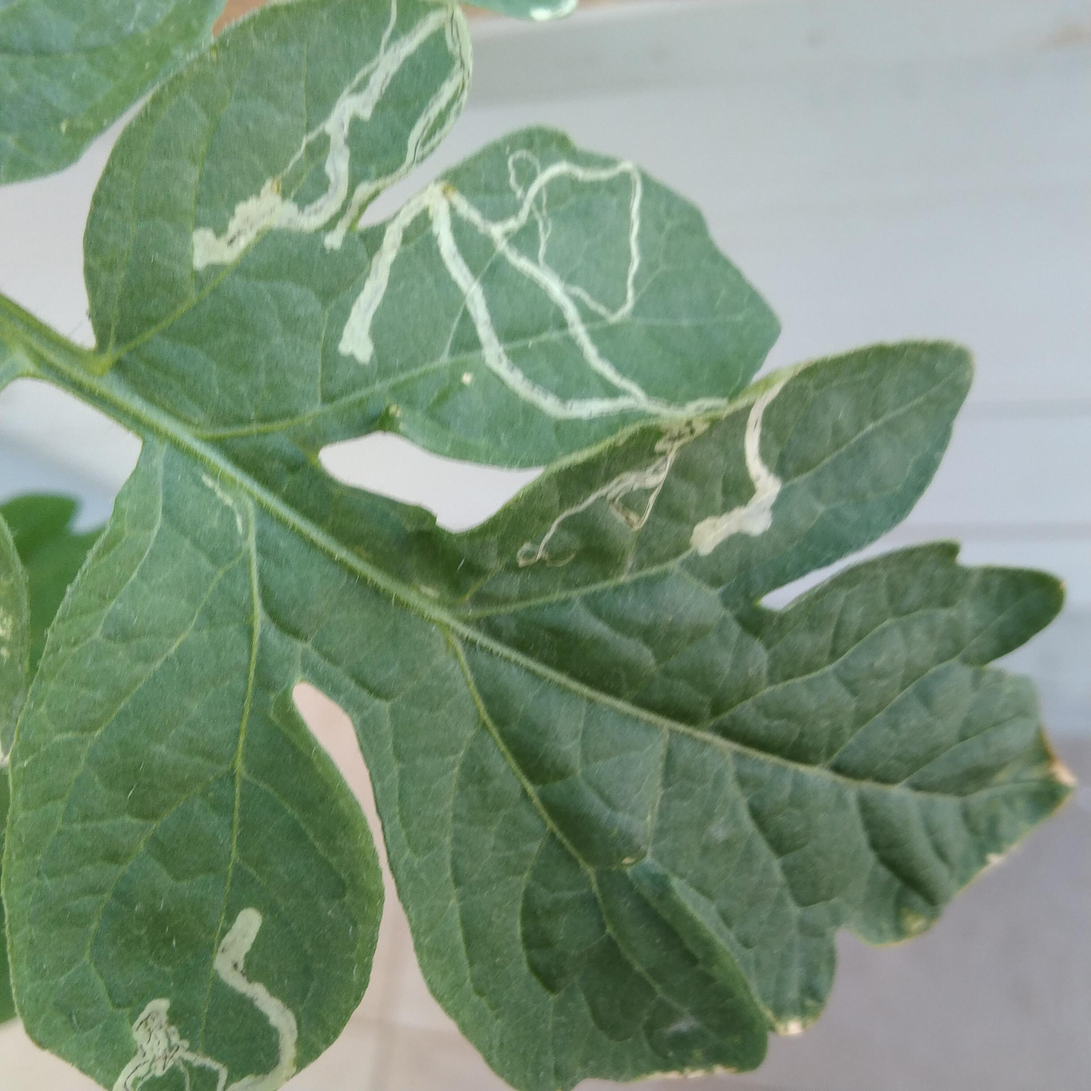Leaf_Miner: (624, 87, 1091, 782), (0, 0, 386, 390), (468, 490, 758, 978)
